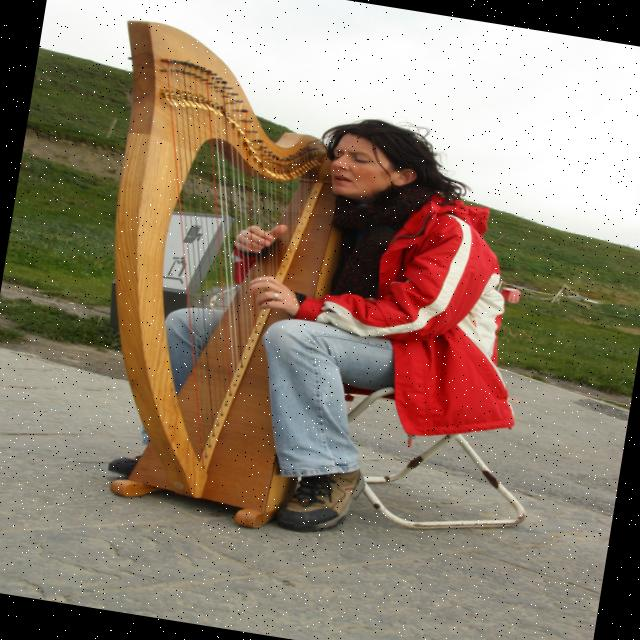harp: (45, 15, 378, 538)
